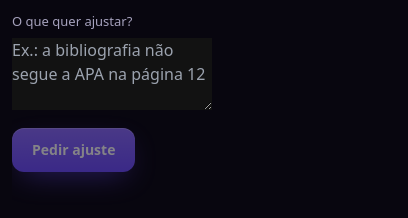
Test: Formulário do pedido › recusado pelo servidor (ex.: o prazo acabou entretanto): mostra o erro e mantém o texto
Type "A bibliografia não segue a APA" into the text box.
click(112, 74); type("A bibliografia não segue a APA")  # box [12, 38, 212, 110]
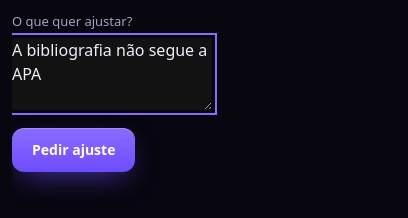
Click the button "Pedir ajuste".
click(74, 150)  # box [12, 128, 135, 172]
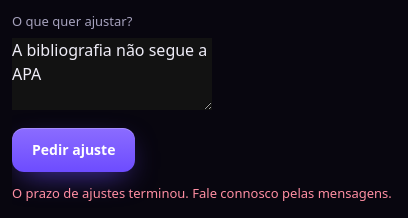
Expected: the message shows "O prazo de ajustes terminou", [12, 184, 392, 202]
